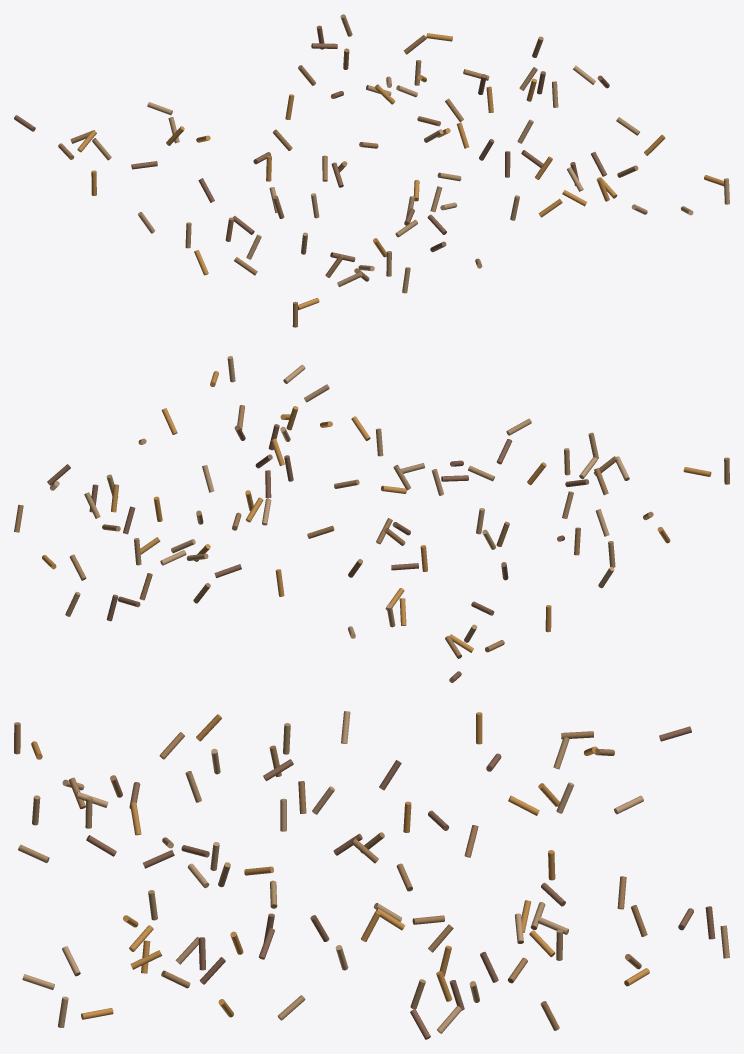
File: choco_round.glb
3 views of the same model, one above another, from view 1: azimuth 30°, elevation 25°; view 2: azimuth 150°, elevation 25°; view 3: azimuth 270°, elevation 25° (orthographic). The views are drawn at different scales.
Bounding box in the file's own units: 2.24 × 0.102 × 2.21.
